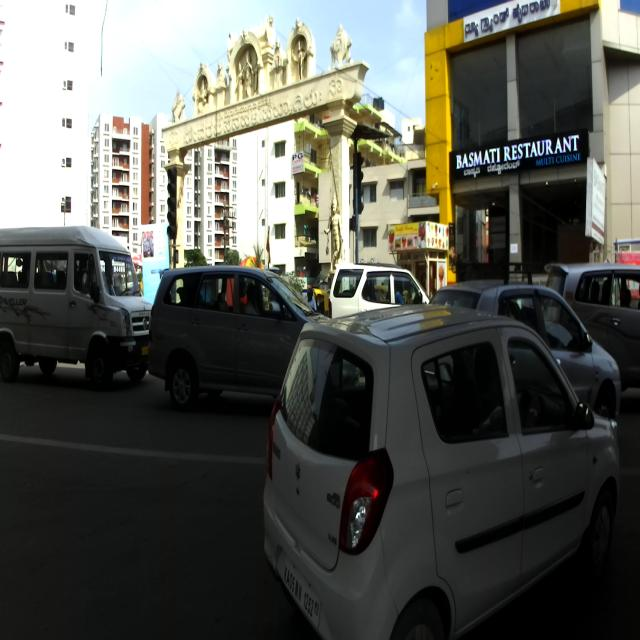car ahead at: (261, 313, 621, 640)
